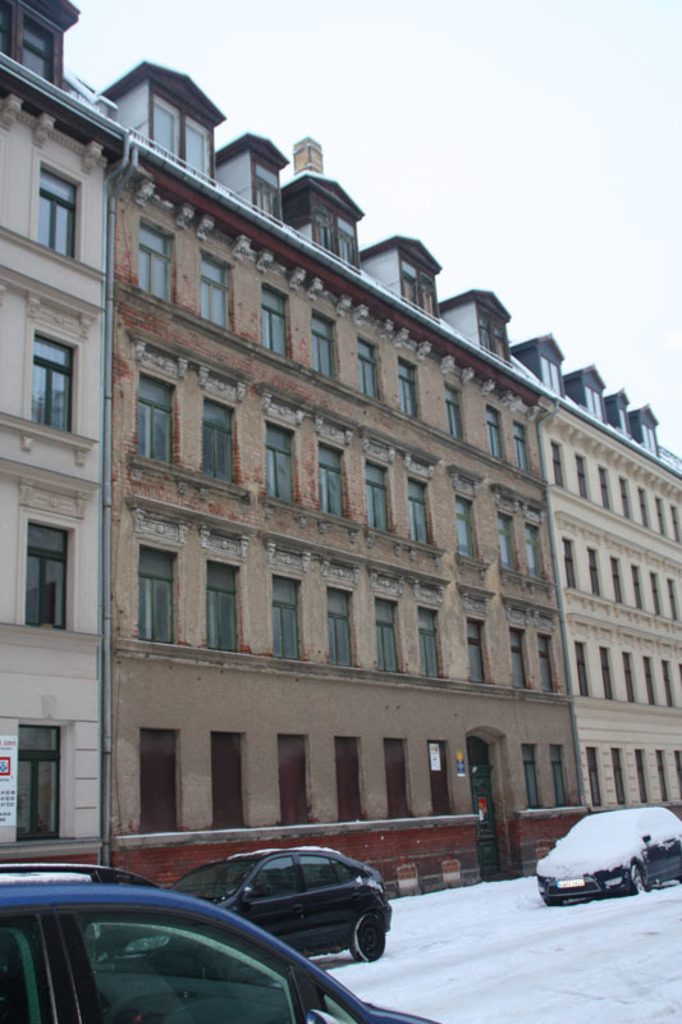Car: (0, 861, 436, 1022), (176, 847, 386, 961), (532, 806, 680, 893)
